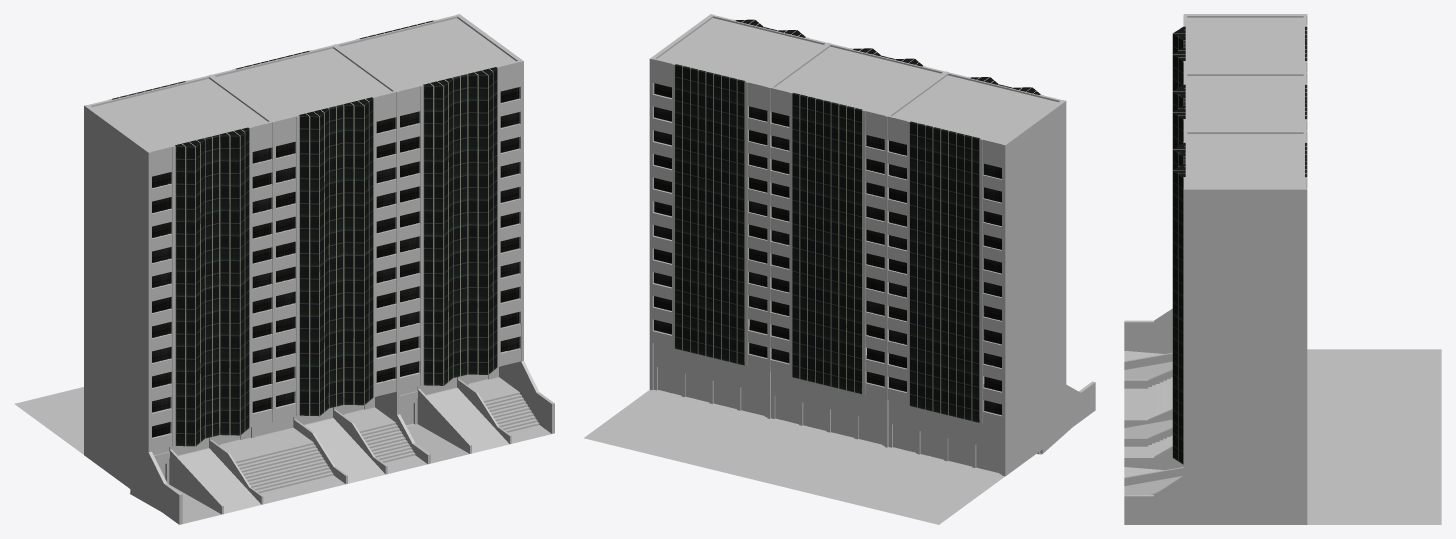
3 views of the same model, side by side, from view 1: azimuth 30°, elevation 25°; view 2: azimuth 150°, elevation 25°; view 3: azimuth 270°, elevation 25° (orthographic). The views are drawn at different scales.
Parts seen in each view (by area): view 1: BB-022; view 2: BB-022; view 3: BB-022.
Part boxes in pixels (x1,y1,x2,y2): BB-022: (14,14,554,524); BB-022: (584,14,1095,524); BB-022: (1124,14,1441,524).
Size of what is drawn, in the model's own units: 47.2 by 43 by 36.
